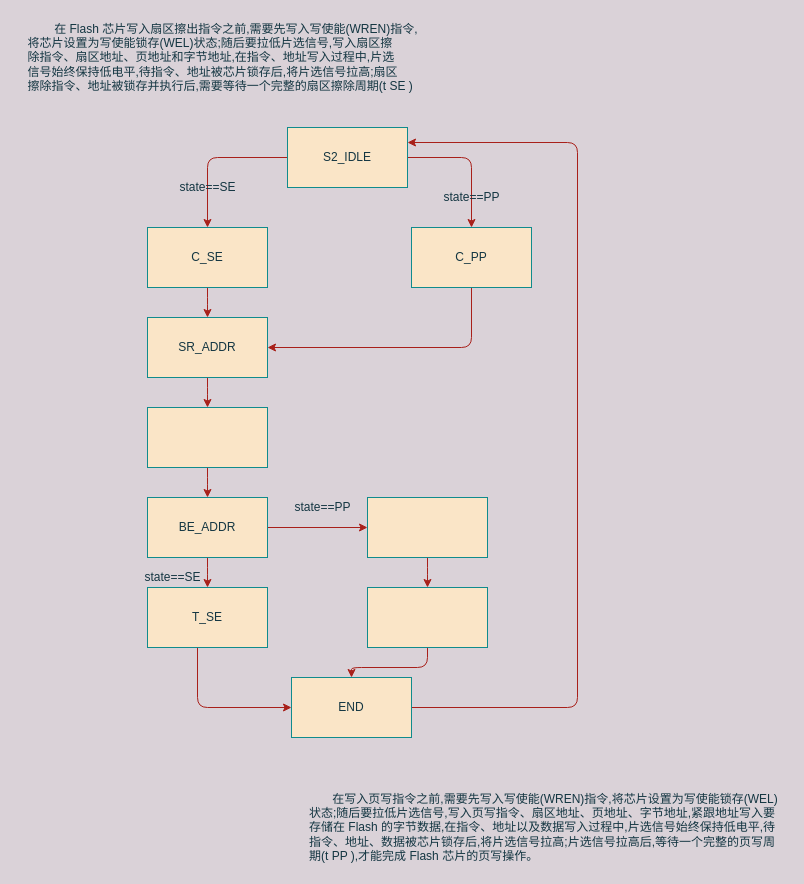
Some shapes in this 804 by 884 pixel diagram are drawn without their labels. Each missing label, with the centre of its shape:
PE_ADDR: the point at 207,437
SD_DATA: the point at 427,527
T_PP: the point at 427,617
